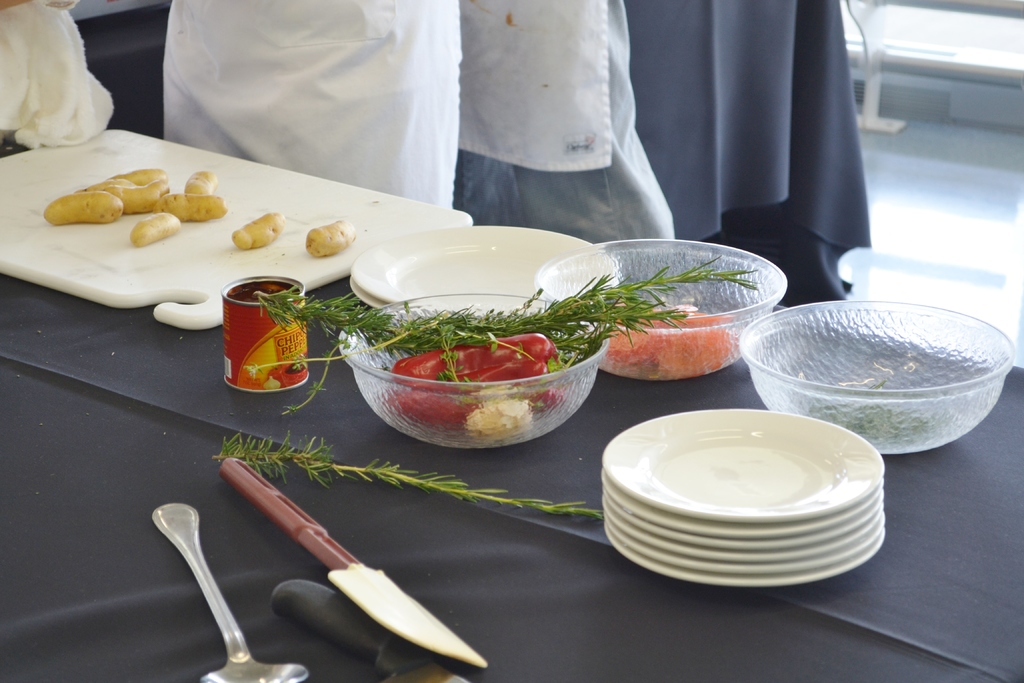plate: (603, 407, 883, 520)
